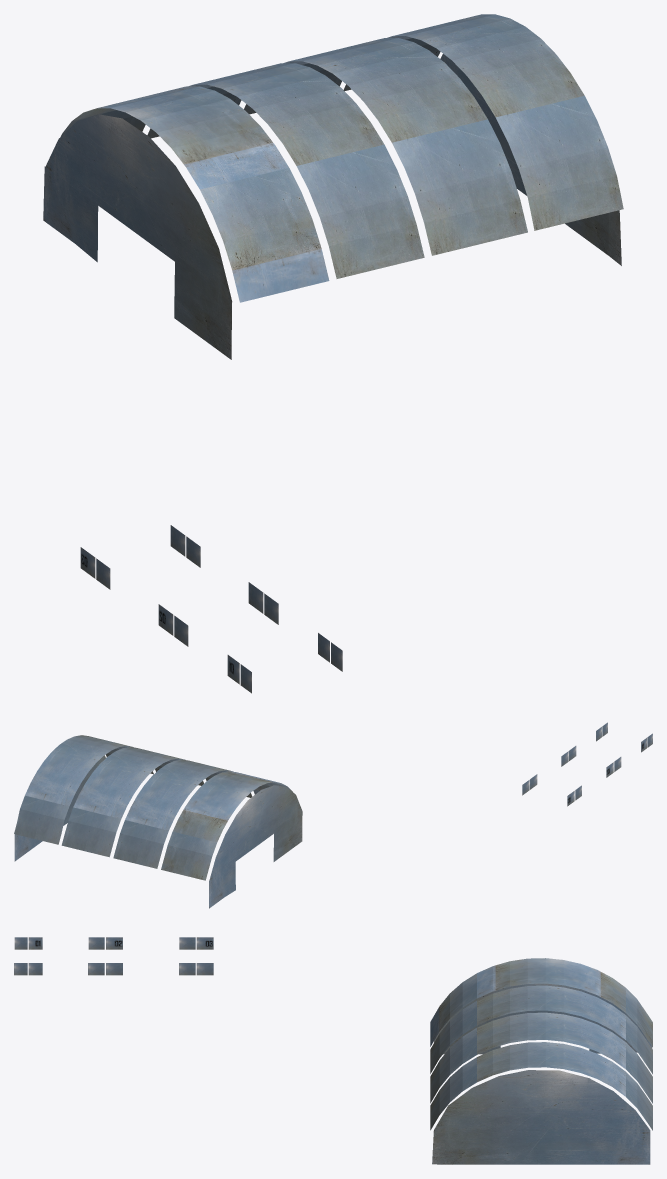
Rendered from techo_invernadero.obj.
3 renders of one model, top to bottom at view 1: azimuth 30°, elevation 25°; view 2: azimuth 150°, elevation 25°; view 3: azimuth 270°, elevation 25°, orthographic. The views are drawn at different scales.
Parts seen in each view (by area): view 1: Plane.002, Plane, Plane.003, Plane.005, Plane.001, Plane.004; view 2: Plane.002, Plane, Plane.003, Plane.001, Plane.005, Plane.004; view 3: Plane.004, Plane.002, Plane, Plane.003, Plane.001, Plane.005.
Boxes of the visible parts, <box> form: Plane.002: <box>244,38,527,255</box>; Plane: <box>60,86,329,302</box>; Plane.003: <box>343,14,623,230</box>; Plane.005: <box>43,114,232,359</box>; Plane.001: <box>147,63,424,278</box>; Plane.004: <box>440,54,621,265</box>; Plane.002: <box>61,747,203,857</box>; Plane: <box>161,771,292,880</box>; Plane.003: <box>14,735,153,844</box>; Plane.001: <box>113,759,252,868</box>; Plane.005: <box>209,785,302,908</box>; Plane.004: <box>14,755,105,861</box>; Plane.004: <box>432,1070,650,1164</box>; Plane.002: <box>430,1012,652,1103</box>; Plane: <box>430,958,652,1046</box>; Plane.003: <box>430,1042,652,1130</box>; Plane.001: <box>430,985,652,1074</box>; Plane.005: <box>434,983,652,1054</box>.
Size of the model in its own units: 123 by 27.1 by 161.
